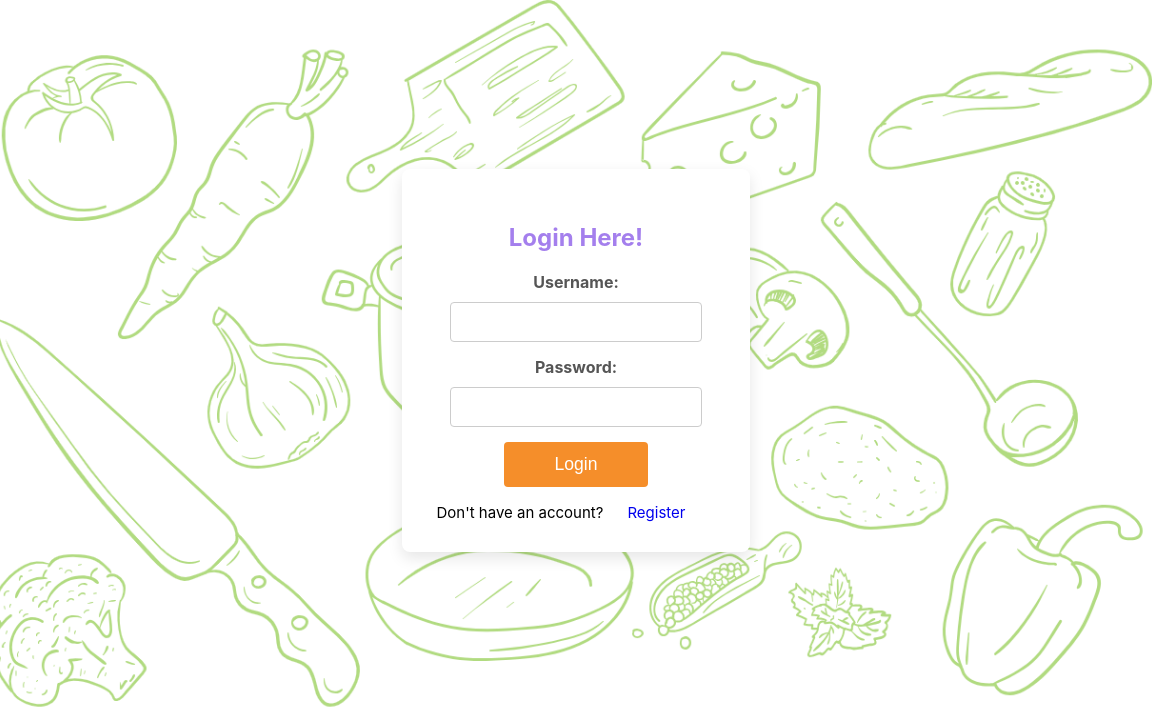
Test: Should test login page › should show validation errors when form is submitted with empty fields
Click the button "Login" at (576, 464), box [504,442,648,486]
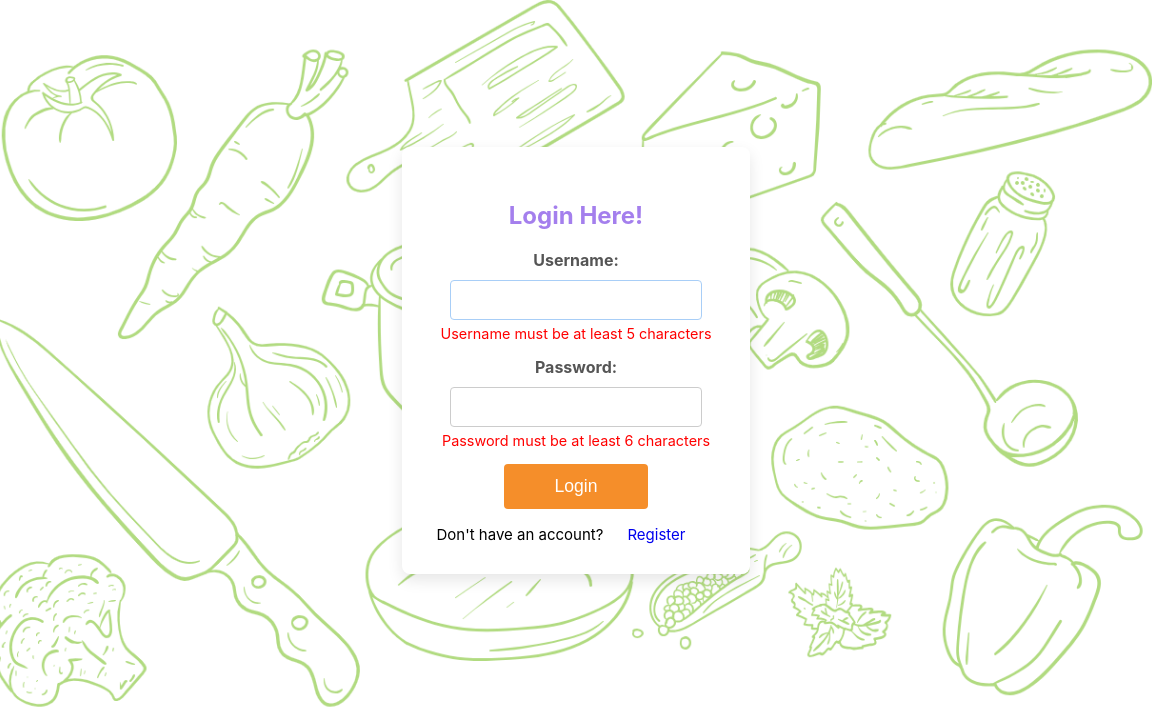
Now the text "Username must be at least 5 characters" is shown, box [432,324,720,342]
Now the text "Password must be at least 6 characters" is shown, box [432,432,720,448]
